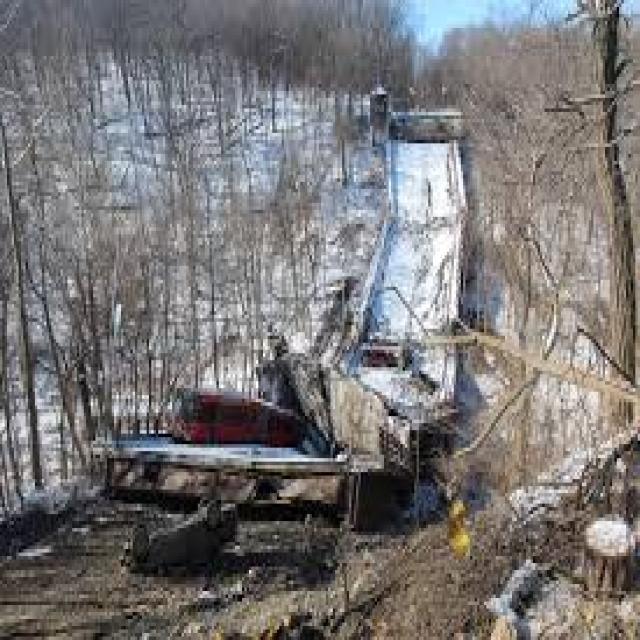bridge collapse: (135, 90, 538, 626)
